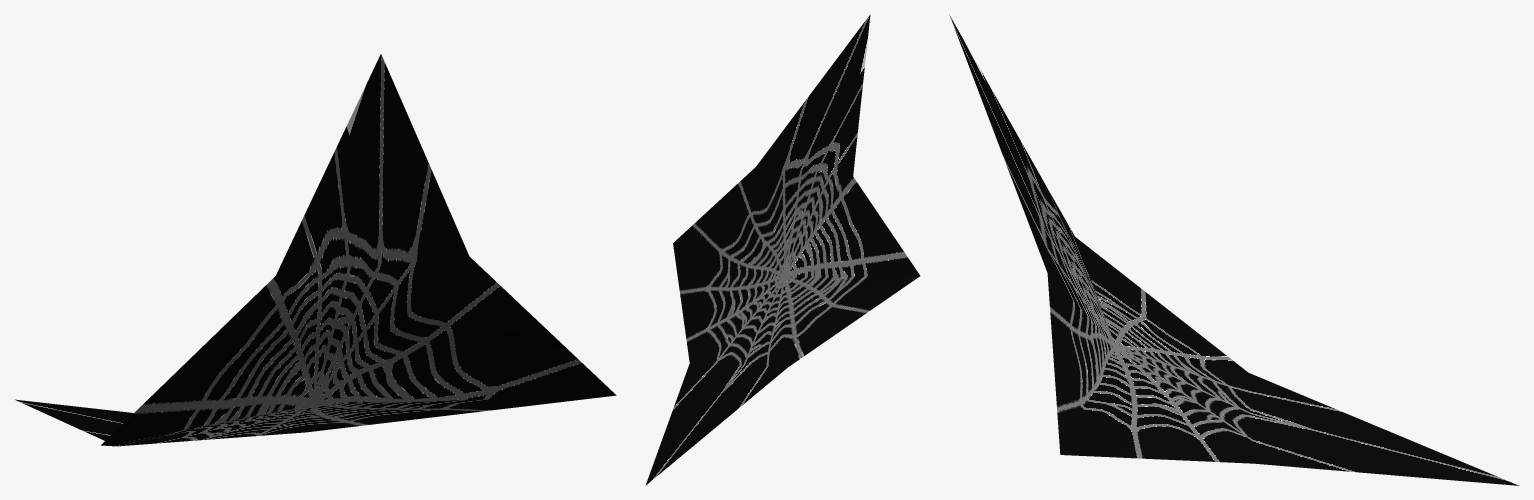
File: TI_SpiderWeb_01.fbx
3 views of the same model, side by side, from view 1: azimuth 30°, elevation 25°; view 2: azimuth 150°, elevation 25°; view 3: azimuth 270°, elevation 25° (orthographic). The views are drawn at different scales.
Visible parts, largest first — view 1: TI_SpiderWeb_01; view 2: TI_SpiderWeb_01; view 3: TI_SpiderWeb_01.
Boxes of the visible parts, x1,y1,x2,y2 form: TI_SpiderWeb_01: (15, 54, 616, 446); TI_SpiderWeb_01: (645, 14, 920, 485); TI_SpiderWeb_01: (949, 14, 1519, 485).
Bounding box in the file's own units: 1.85 × 2.3 × 2.59.
